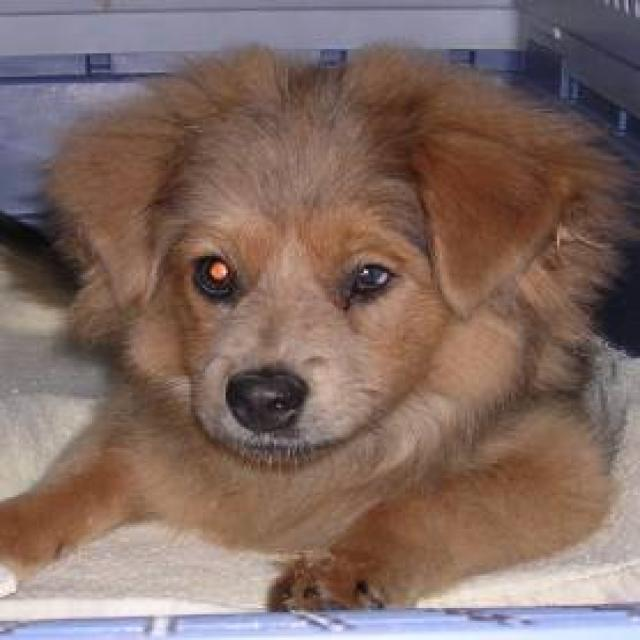dog-pomeranian: (2, 49, 619, 617)
